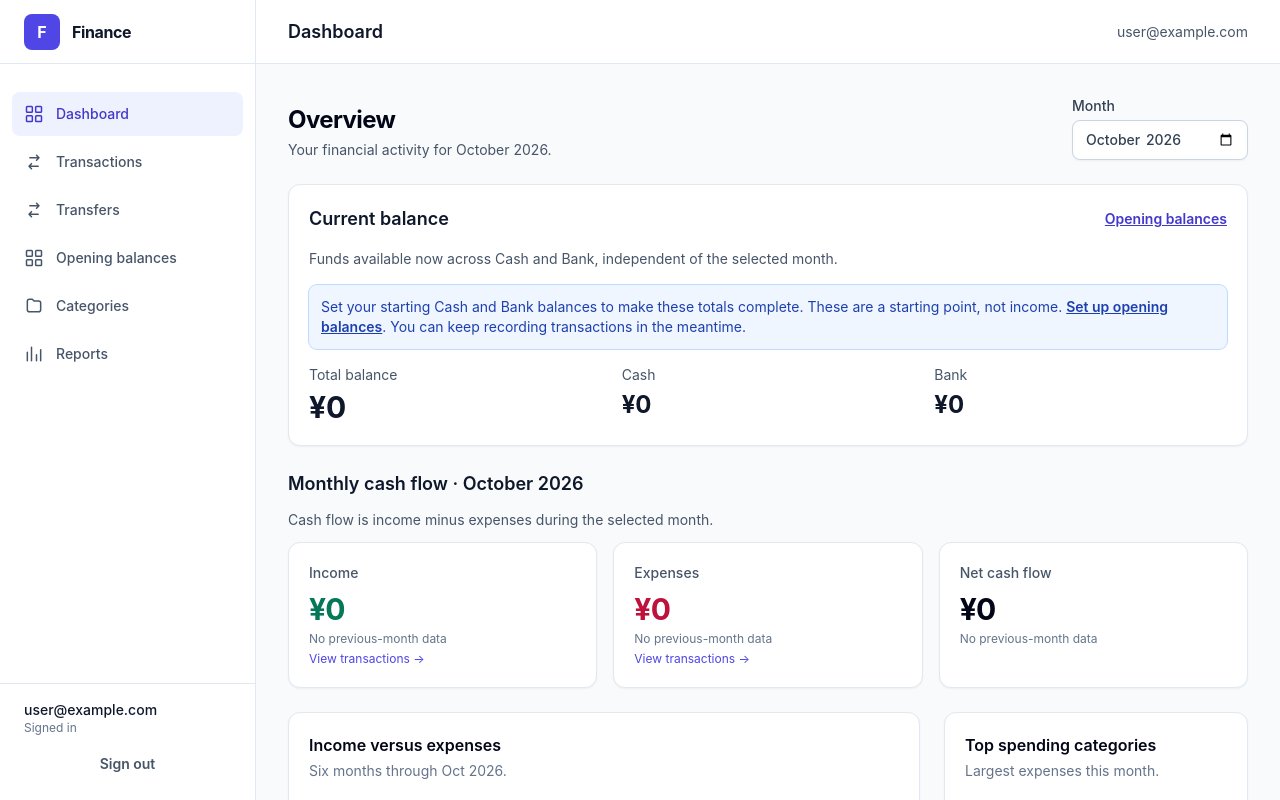
Test case: authentication routing › signs out and returns to login
Click the button "Sign out" at (128, 764), box [16, 744, 239, 784]
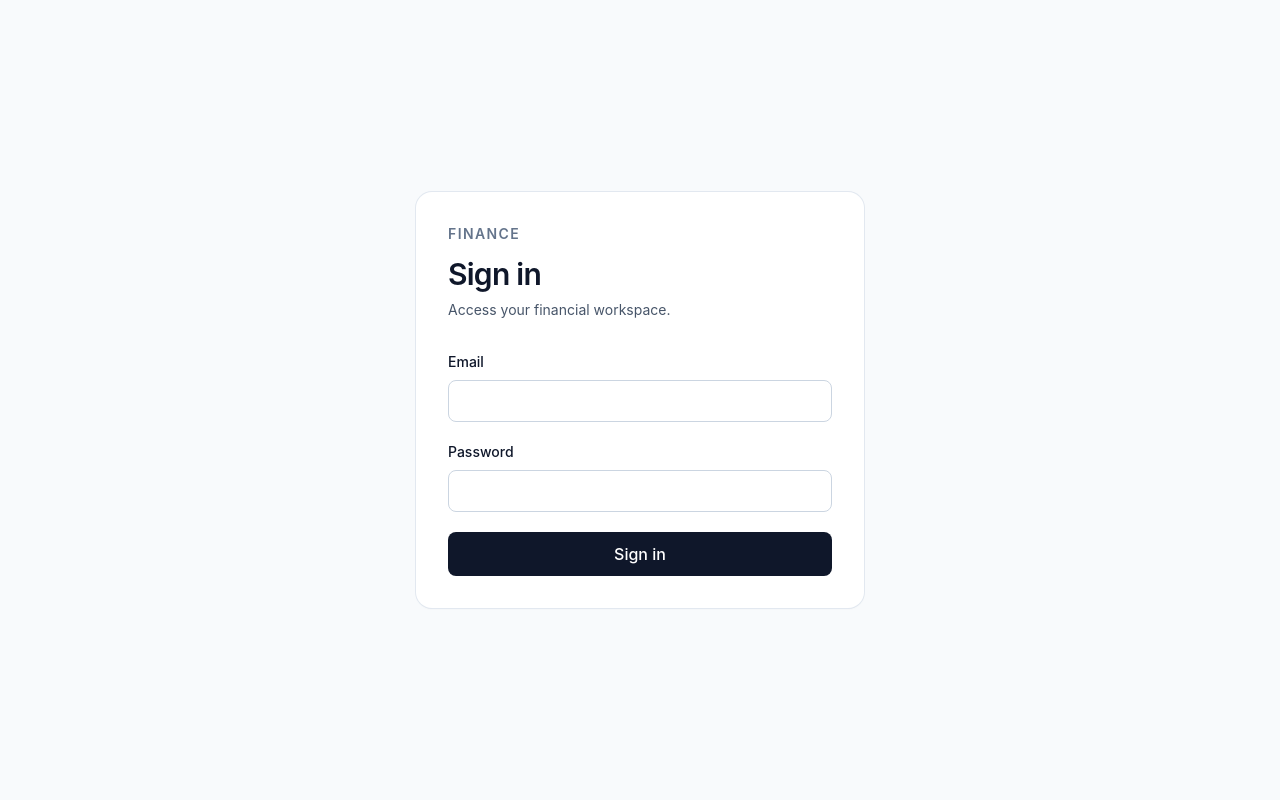
Now the heading "Sign in" is shown, box [448, 256, 541, 292]
